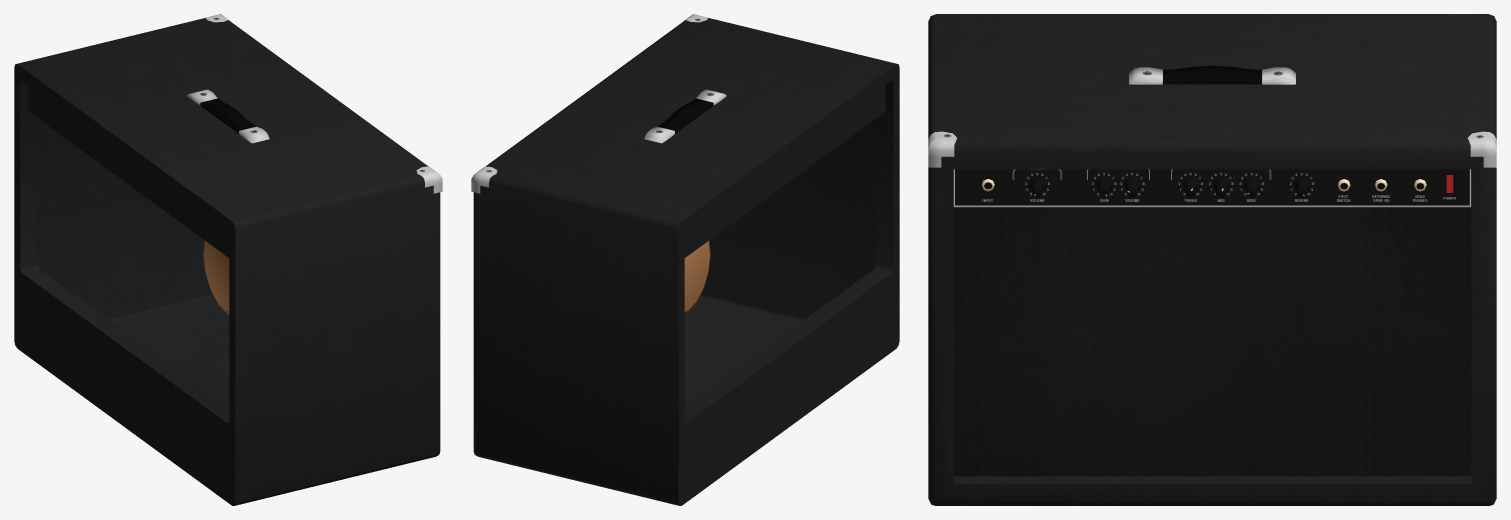
File: Amplifier_Model.fbx
The picture shows the model from 3 angles, left to right: view 1: azimuth 30°, elevation 25°; view 2: azimuth 150°, elevation 25°; view 3: azimuth 270°, elevation 25°; orthographic projection. The views are drawn at different scales.
Visible parts, largest first — view 1: Box, Top, Speaker; view 2: Box, Top, Speaker; view 3: Box, Top, Panel.
Boxes of the visible parts, x1=… form: Box: x1=14, y1=18, x2=440, y2=505; Top: x1=187, y1=14, x2=442, y2=193; Speaker: x1=203, y1=240, x2=229, y2=314; Box: x1=473, y1=18, x2=899, y2=505; Top: x1=471, y1=14, x2=726, y2=193; Speaker: x1=684, y1=240, x2=710, y2=314; Box: x1=928, y1=14, x2=1496, y2=505; Top: x1=928, y1=65, x2=1496, y2=167; Panel: x1=981, y1=172, x2=1454, y2=197.
Bounding box in the file's own units: 61.23 × 81.96 × 113.
